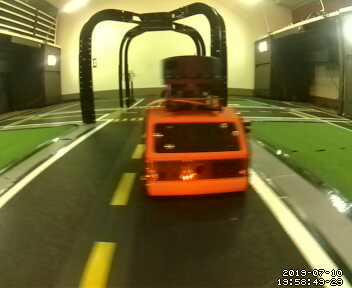pheeno: (133, 56, 255, 198)
